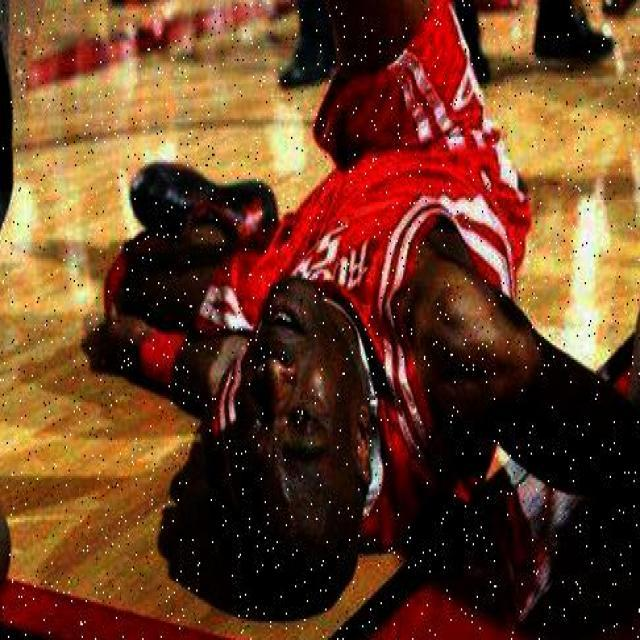fall: (107, 74, 600, 583)
